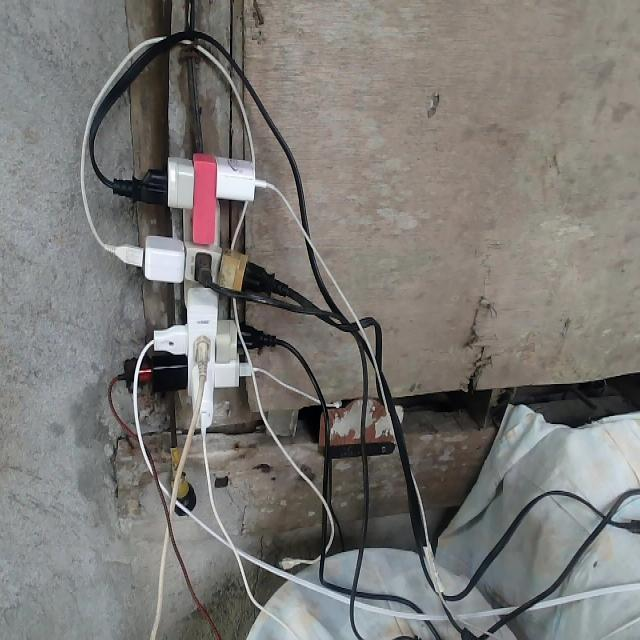-: (129, 147, 255, 436)
